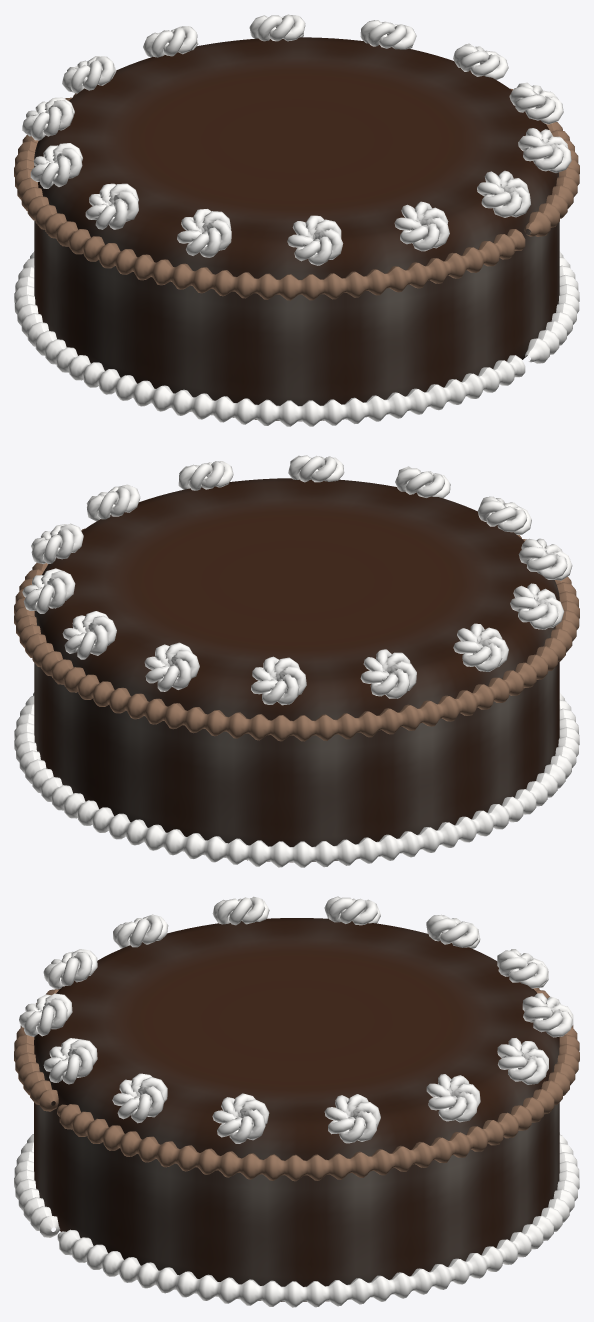
The model's file is cake.glb.
The picture shows the model from 3 angles, top to bottom: view 1: azimuth 30°, elevation 25°; view 2: azimuth 150°, elevation 25°; view 3: azimuth 270°, elevation 25°; orthographic projection.
Size of the model in its own units: 0.2585 by 0.1021 by 0.2584.
